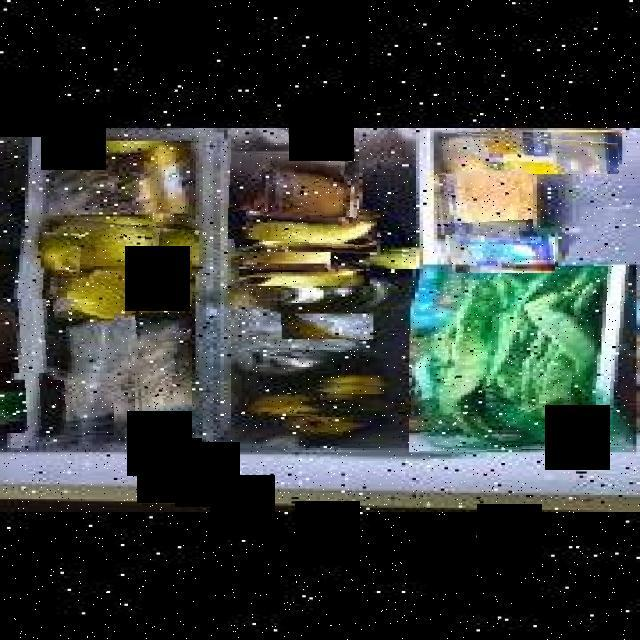apple: (37, 216, 194, 266), (50, 266, 192, 314), (153, 230, 195, 276)
banana: (274, 406, 402, 438), (245, 396, 395, 417), (249, 376, 384, 394)
bread: (0, 299, 114, 373)
broccoli: (0, 228, 96, 299)
cheese: (132, 314, 192, 439)
green_beans: (409, 266, 633, 453)
humus: (228, 151, 359, 239), (434, 162, 533, 235)
lemon: (277, 315, 370, 340)
mayonaise: (434, 131, 618, 174)
milk: (0, 380, 114, 433)
pear: (235, 230, 366, 286), (227, 209, 377, 252), (327, 247, 416, 269)
pineapple: (50, 141, 196, 230)
yogurt: (441, 228, 555, 273)
